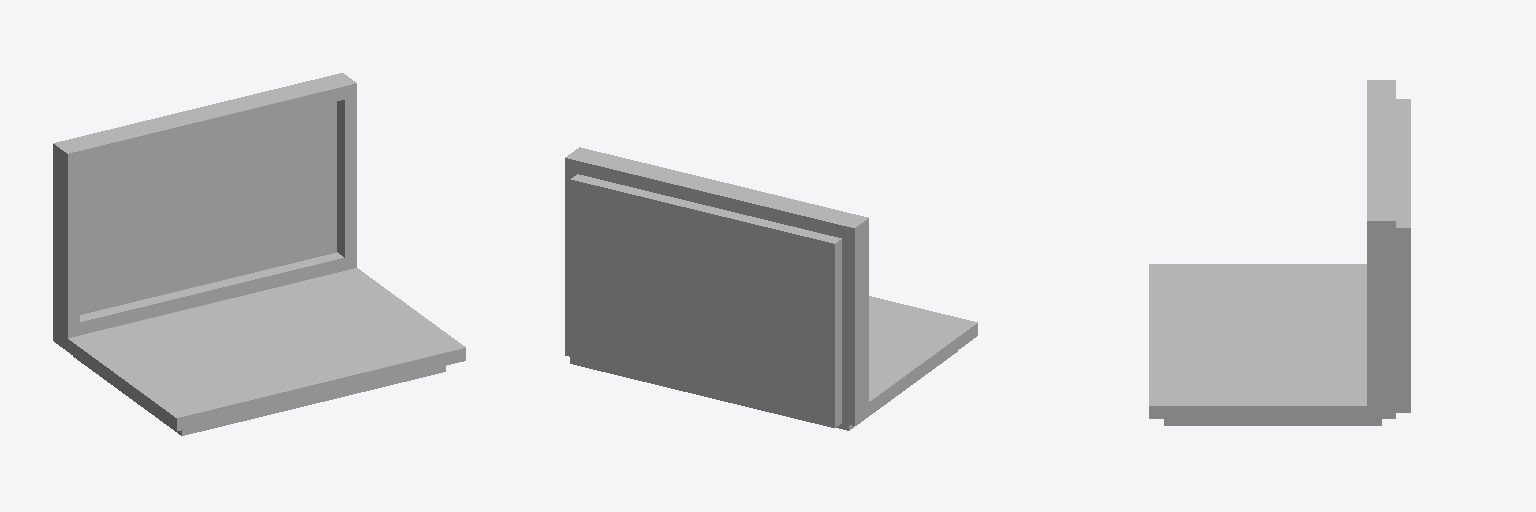
Rendered from Laptop.obj.
3 views of the same model, side by side, from view 1: azimuth 30°, elevation 25°; view 2: azimuth 150°, elevation 25°; view 3: azimuth 270°, elevation 25° (orthographic).
Parts seen in each view (by area): view 1: object 1; view 2: object 1; view 3: object 1.
Part boxes in pixels (left/top/right/bottom): object 1: left=53, top=73, right=465, bottom=435; object 1: left=565, top=147, right=977, bottom=430; object 1: left=1149, top=80, right=1410, bottom=425.
Size of the model in its own units: 2.3 by 1.6 by 1.8.